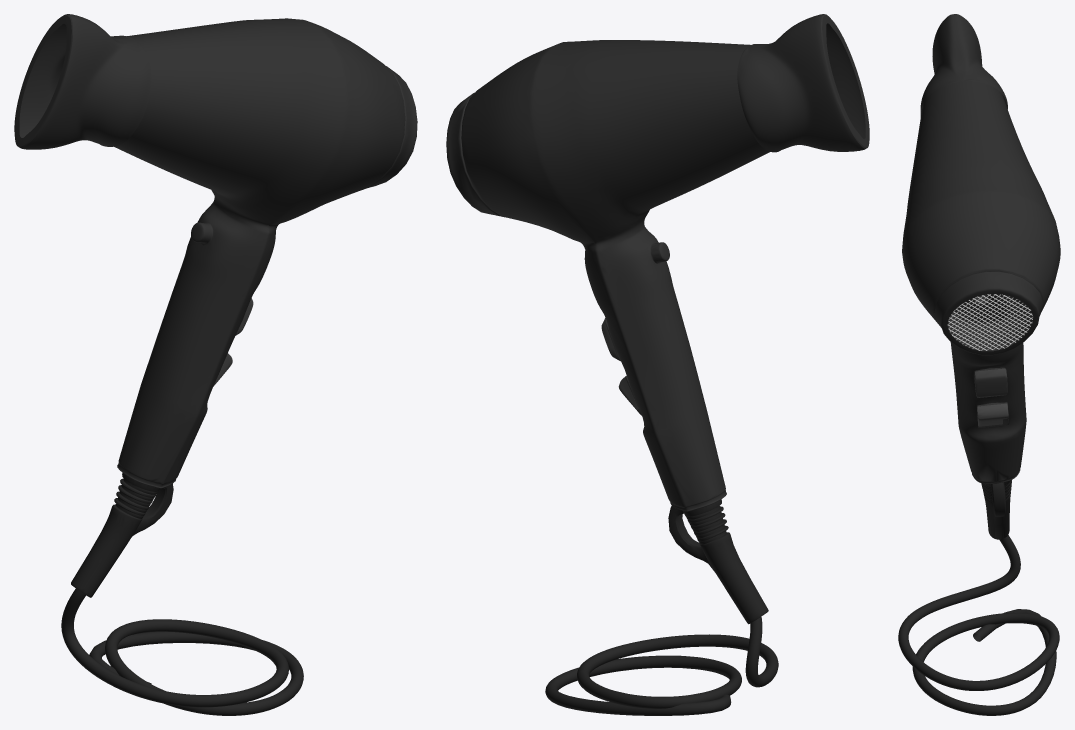
Rendered from hair_dryer.glb.
The picture shows the model from 3 angles, left to right: view 1: azimuth 30°, elevation 25°; view 2: azimuth 150°, elevation 25°; view 3: azimuth 270°, elevation 25°; orthographic projection. The views are drawn at different scales.
Parts seen in each view (by area): view 1: hair_dryer_Hair_Dryer_BLACK_0, hair_dryer_Hair_Dryer_Grid_METAL_0, hair_dryer_Hair_Dryer_Nozzle_PLASTIC_0; view 2: hair_dryer_Hair_Dryer_BLACK_0, hair_dryer_Hair_Dryer_Grid_METAL_0, hair_dryer_Hair_Dryer_Nozzle_PLASTIC_0; view 3: hair_dryer_Hair_Dryer_BLACK_0, hair_dryer_Hair_Dryer_Grid_METAL_0, hair_dryer_Hair_Dryer_Nozzle_PLASTIC_0.
Boxes of the visible parts, x1,y1,x2,y2 form: hair_dryer_Hair_Dryer_BLACK_0: [114, 18, 417, 488]; hair_dryer_Hair_Dryer_Grid_METAL_0: [61, 298, 303, 715]; hair_dryer_Hair_Dryer_Nozzle_PLASTIC_0: [14, 14, 151, 149]; hair_dryer_Hair_Dryer_BLACK_0: [446, 40, 770, 511]; hair_dryer_Hair_Dryer_Grid_METAL_0: [545, 320, 778, 715]; hair_dryer_Hair_Dryer_Nozzle_PLASTIC_0: [737, 14, 869, 152]; hair_dryer_Hair_Dryer_BLACK_0: [902, 81, 1060, 483]; hair_dryer_Hair_Dryer_Grid_METAL_0: [898, 294, 1059, 715]; hair_dryer_Hair_Dryer_Nozzle_PLASTIC_0: [920, 14, 1007, 117].
Bounding box in the file's own units: 1.97 × 3.44 × 0.8383.
Materials: 3 (3 with a texture image).
